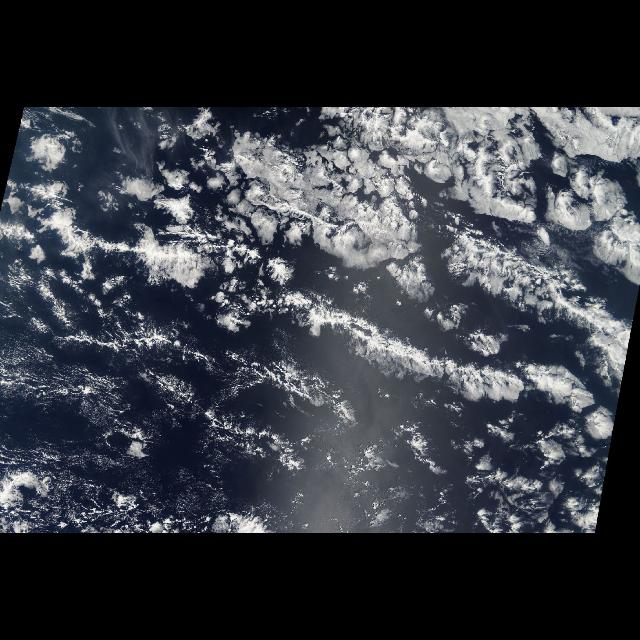Fish: (28, 203, 560, 419)
Flower: (24, 110, 638, 388)
Gravel: (7, 276, 239, 522)
Sugar: (1, 270, 238, 470)
